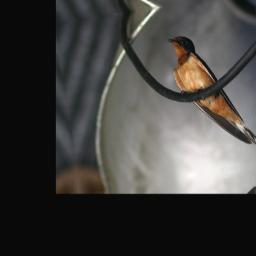Swallow: (163, 20, 256, 166)
